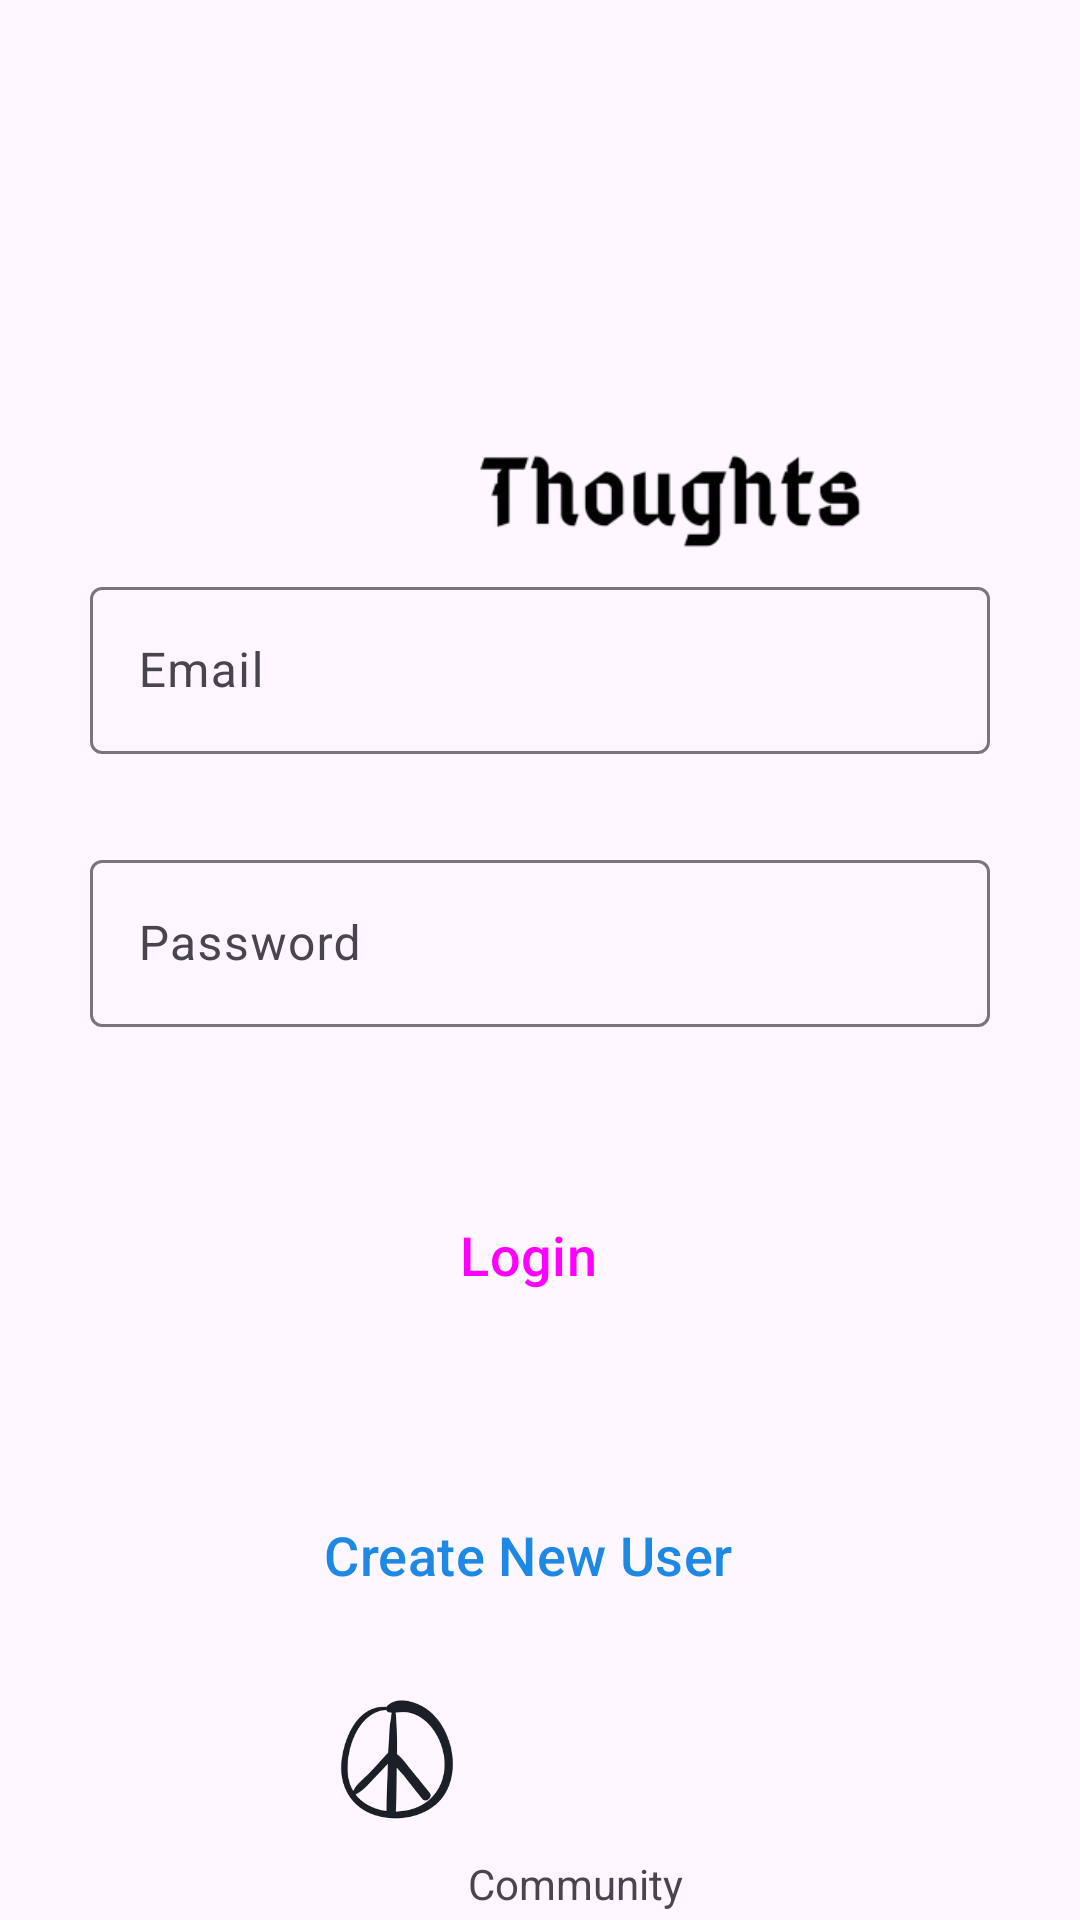

Icons on this 1080x1920 Android screen, each with its box as [x1,y1,x2,y2]:
peace: [341,1700,453,1819]
